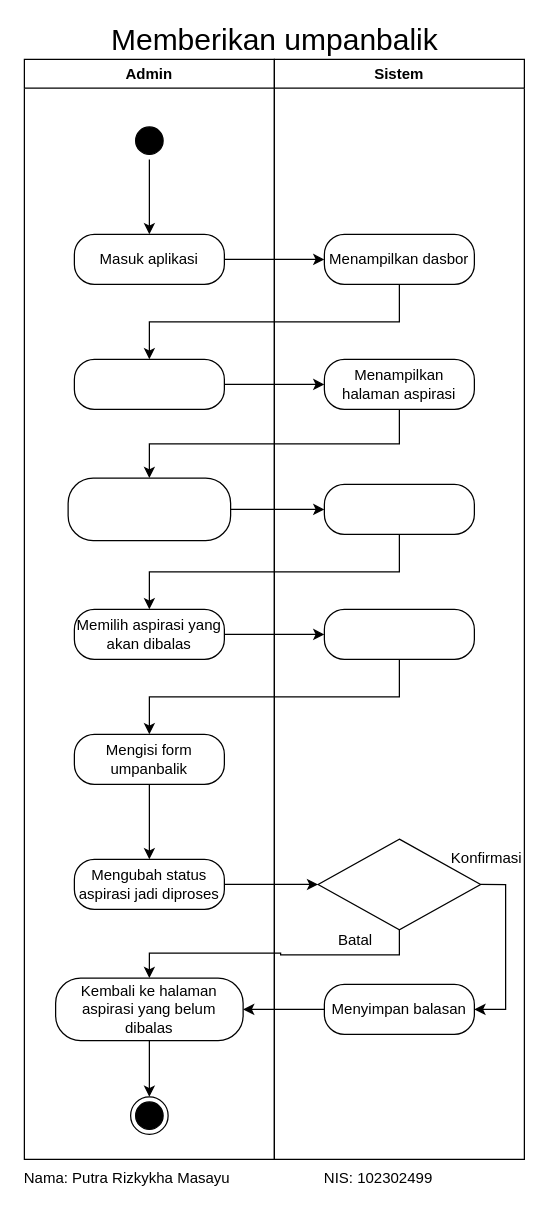
Image size: 546x1218. Some labels were removed from this diagram. The shapes that lost their labels are listed below. From the top down, each one's centre as x and y in pixels, then its label:
At point (148, 383): "Menekan tombol aspirasi".
At point (149, 509): "Menyaring aspirasi dengan opsi belum dibalas".
At point (398, 508): "Menampilkan aspirasi yang belum dibalas".
At point (398, 633): "Menampilkan form umpanbalik".
At point (399, 884): "Cek apakah ingin disimpan".
